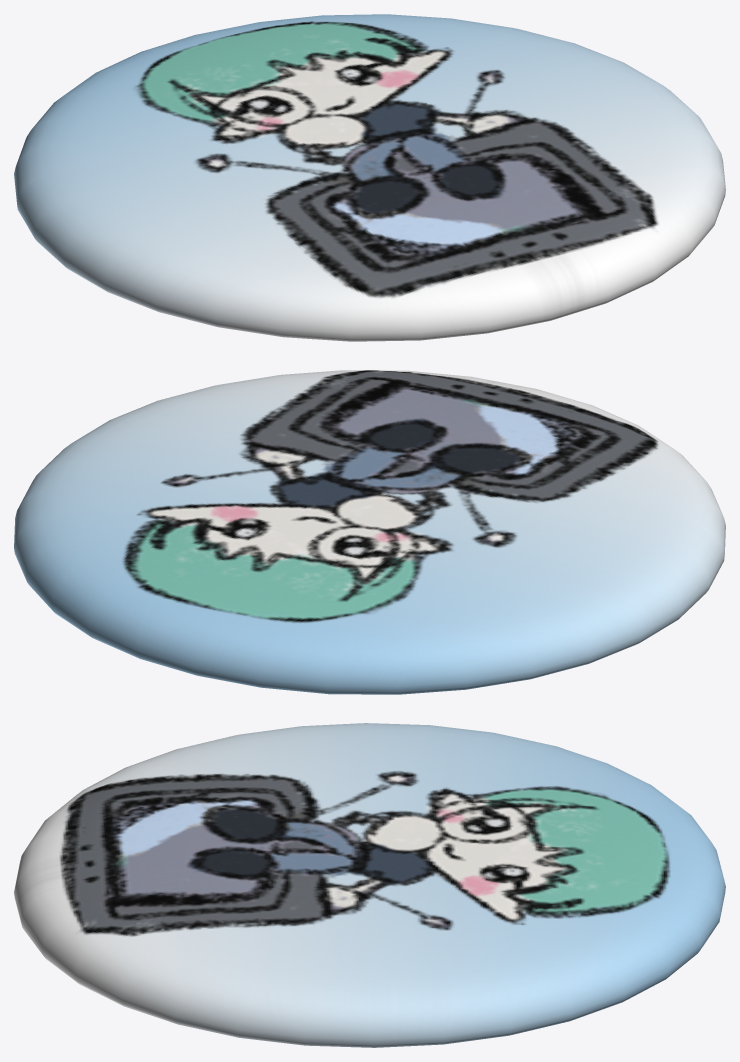
The picture shows the model from 3 angles, top to bottom: view 1: azimuth 30°, elevation 25°; view 2: azimuth 150°, elevation 25°; view 3: azimuth 270°, elevation 25°; orthographic projection.
Visible parts, largest first — view 1: Button_Pin; view 2: Button_Pin; view 3: Button_Pin.
Boxes of the visible parts, x1=… form: Button_Pin: x1=14, y1=14, x2=725, y2=341; Button_Pin: x1=14, y1=370, x2=725, y2=694; Button_Pin: x1=14, y1=723, x2=725, y2=1047.
Bounding box in the file's own units: 0.0629 × 0.00761 × 0.0629.
3 materials, 2 textured.
